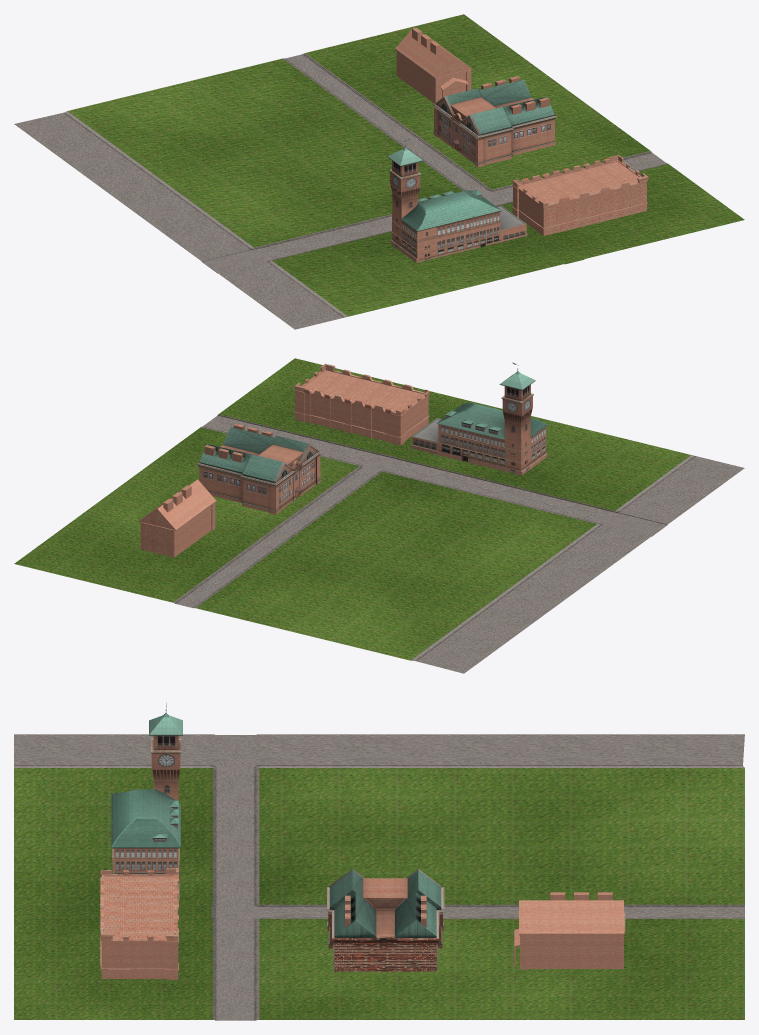
File: 12-13-14 Exterior.fbx
3 views of the same model, one above another, from view 1: azimuth 30°, elevation 25°; view 2: azimuth 150°, elevation 25°; view 3: azimuth 270°, elevation 25° (orthographic). The views are drawn at different scales.
Visible parts, largest first — view 1: Ground, BowmanTower, Trades_Building, Gymnasium, Unknown2; view 2: Ground, BowmanTower, Trades_Building, Gymnasium, Unknown2; view 3: Ground, Gymnasium, Trades_Building, Unknown2, BowmanTower.
Part boxes in pixels (x1,y1,x2,y2): Ground: (14,14,744,329); BowmanTower: (387,144,527,262); Trades_Building: (512,155,648,235); Gymnasium: (433,79,557,167); Unknown2: (395,27,472,103); Ground: (14,358,744,673); BowmanTower: (411,368,547,475); Trades_Building: (294,363,429,445); Gymnasium: (197,427,321,514); Unknown2: (138,479,216,557); Ground: (14,734,744,1020); Gymnasium: (327,869,444,972); Trades_Building: (100,868,178,979); Unknown2: (514,892,625,969); BowmanTower: (111,703,182,901).
Size of the model in its own units: 312 by 71.41 by 337.
Materials: 5 (4 with a texture image).
